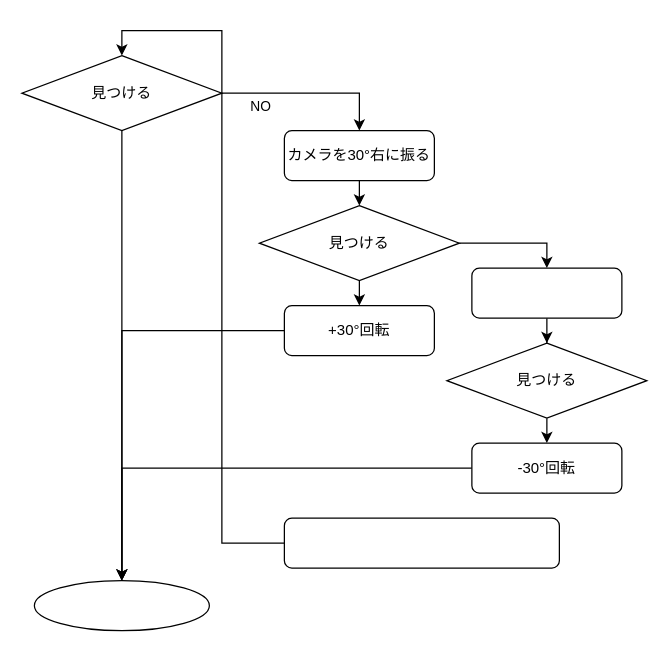
The diagram is 669 pixels wide and 653 high, and some of its shapes have lost their labels. The centre of each missing label's shape, as x and y in pixels:
Mode.FIND_PARTIAL: pixel 121 605
SEARCH_MOVE_FORWARD_SEC秒間前に前進: pixel 421 542
カメラを30°左に振る: pixel 546 292
